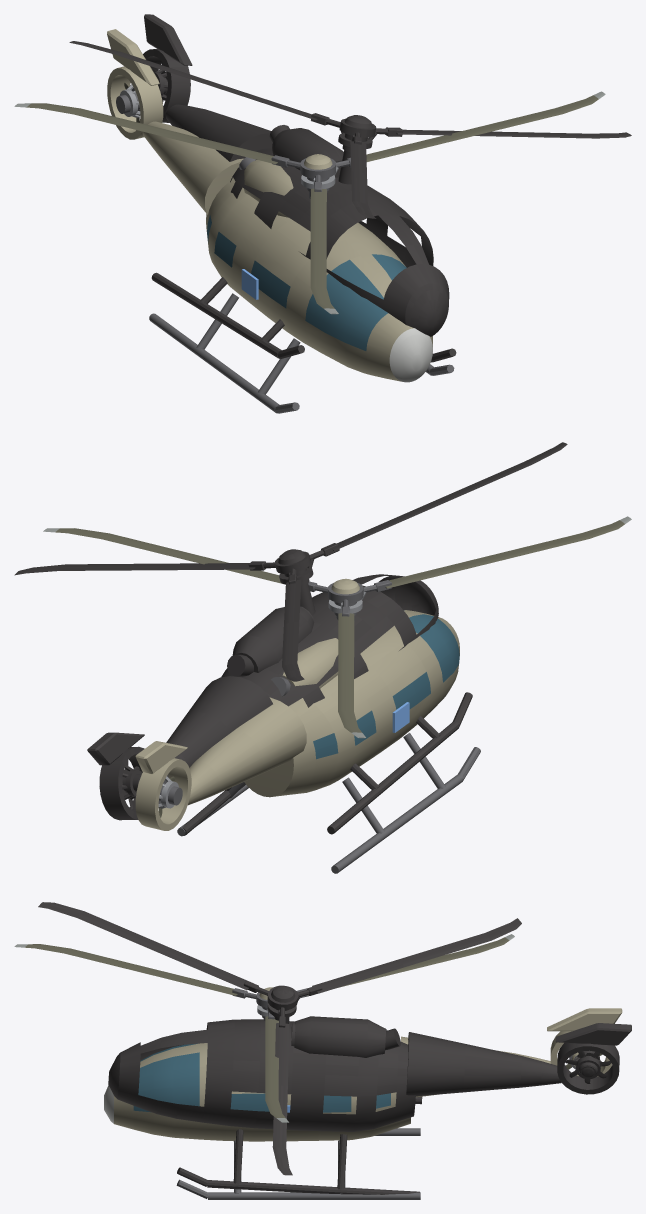
The model's file is carrierDrone__vsr700.glb.
3 views of the same model, one above another, from view 1: azimuth 30°, elevation 25°; view 2: azimuth 150°, elevation 25°; view 3: azimuth 270°, elevation 25° (orthographic). The views are drawn at different scales.
Parts seen in each view (by area): view 1: Wreck, Fuselage_Mesh, Rotor_Main_Mesh, Fenestron_Mesh, Landing_Gear_Mesh, Engines_Mesh, Rotor_Tail_Mesh; view 2: Wreck, Fuselage_Mesh, Rotor_Main_Mesh, Fenestron_Mesh, Landing_Gear_Mesh, Engines_Mesh, Rotor_Tail_Mesh; view 3: Wreck, Fuselage_Mesh, Rotor_Main_Mesh, Landing_Gear_Mesh, Fenestron_Mesh.
Boxes of the visible parts, left/top/right/bottom form: Wreck: left=69, top=14, right=631, bottom=362; Fuselage_Mesh: left=142, top=121, right=432, bottom=382; Rotor_Main_Mesh: left=14, top=91, right=605, bottom=314; Fenestron_Mesh: left=107, top=29, right=163, bottom=139; Landing_Gear_Mesh: left=149, top=293, right=454, bottom=413; Engines_Mesh: left=239, top=157, right=293, bottom=217; Rotor_Tail_Mesh: left=116, top=83, right=140, bottom=122; Wreck: left=14, top=442, right=567, bottom=835; Fuselage_Mesh: left=188, top=610, right=459, bottom=805; Rotor_Main_Mesh: left=43, top=516, right=631, bottom=738; Fenestron_Mesh: left=135, top=741, right=191, bottom=830; Landing_Gear_Mesh: left=177, top=733, right=480, bottom=873; Engines_Mesh: left=271, top=638, right=338, bottom=696; Rotor_Tail_Mesh: left=158, top=776, right=182, bottom=817; Wreck: left=38, top=902, right=631, bottom=1194; Fuselage_Mesh: left=104, top=1036, right=550, bottom=1141; Rotor_Main_Mesh: left=14, top=934, right=514, bottom=1122; Landing_Gear_Mesh: left=176, top=1128, right=420, bottom=1199; Fenestron_Mesh: left=547, top=1008, right=622, bottom=1076.
Size of what is drawn, in the model's own units: 5.92 by 3.17 by 7.74.
